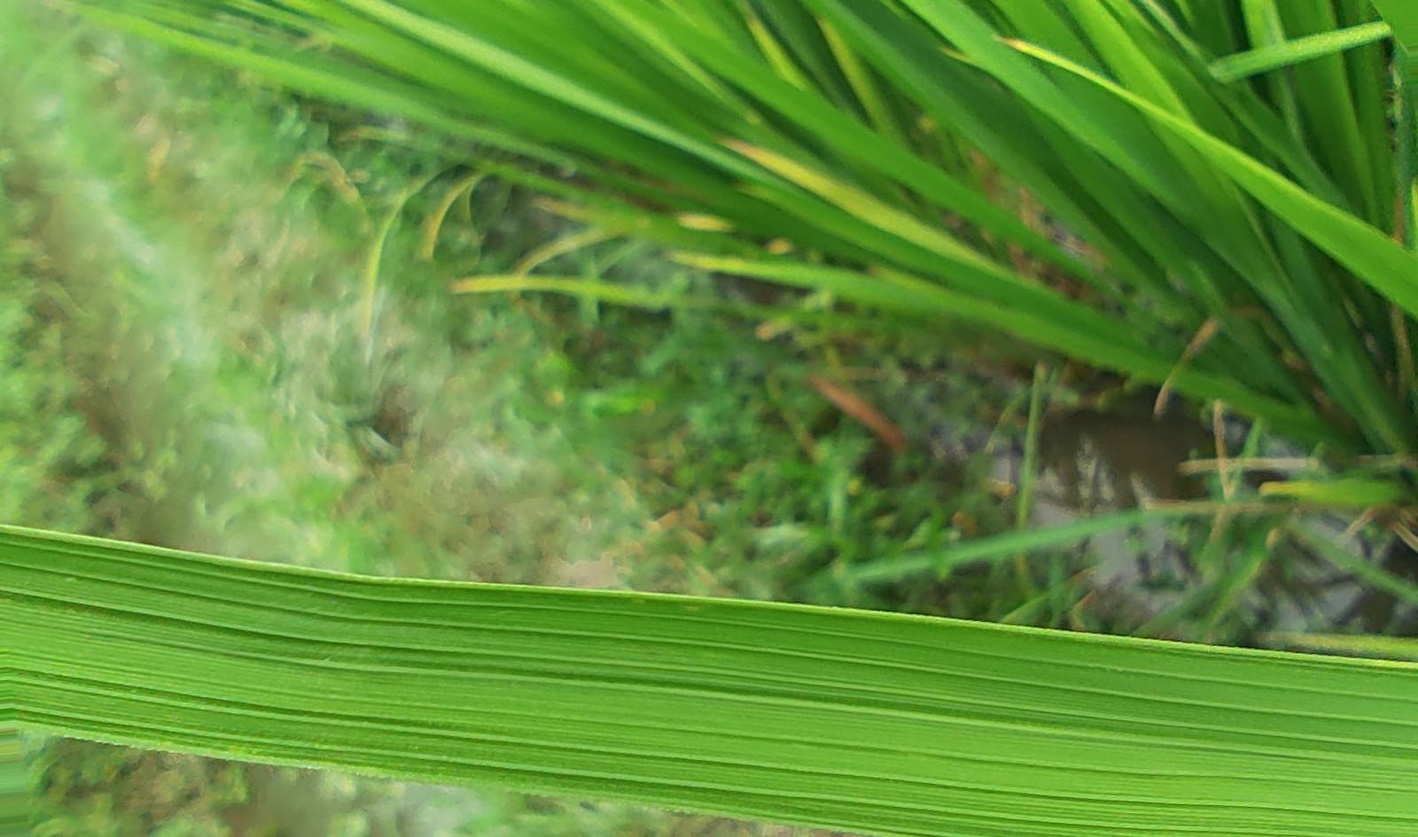Healthy: (0, 525, 1417, 836)
